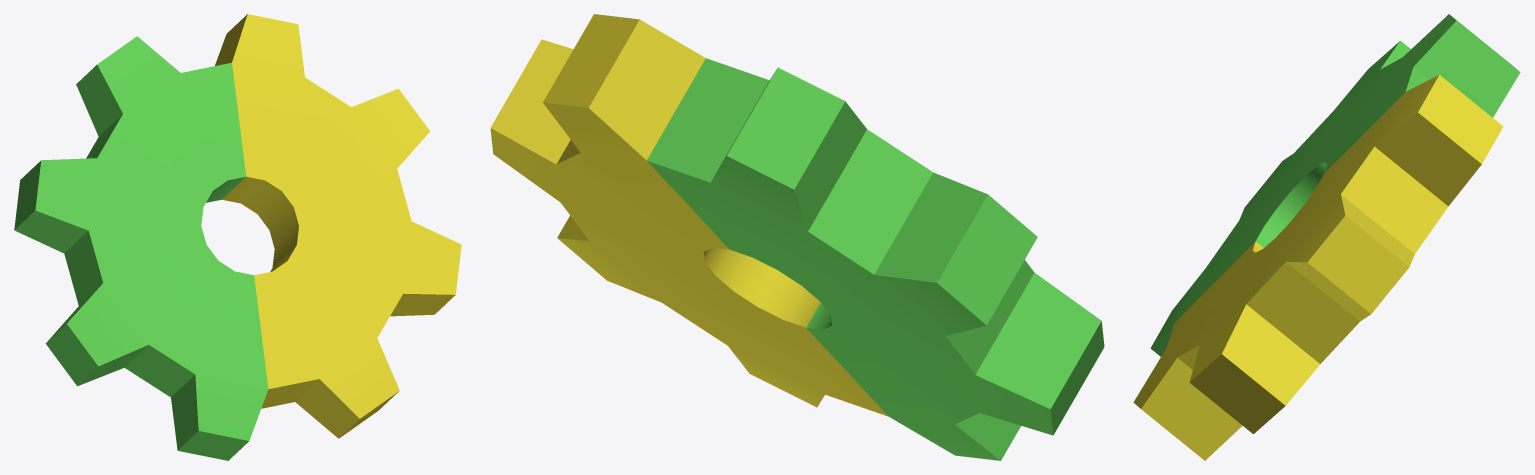
The picture shows the model from 3 angles, left to right: view 1: azimuth 30°, elevation 25°; view 2: azimuth 150°, elevation 25°; view 3: azimuth 270°, elevation 25°; orthographic projection. The views are drawn at different scales.
Visible parts, largest first — view 1: Joint_0_Object_0, Joint_0_Object_1; view 2: Joint_0_Object_0, Joint_0_Object_1; view 3: Joint_0_Object_1, Joint_0_Object_0.
Boxes of the visible parts, x1,y1,x2,y2 form: Joint_0_Object_0: [14, 36, 268, 460]; Joint_0_Object_1: [215, 14, 461, 438]; Joint_0_Object_0: [647, 58, 1104, 460]; Joint_0_Object_1: [490, 14, 888, 416]; Joint_0_Object_1: [1133, 75, 1503, 460]; Joint_0_Object_0: [1150, 14, 1520, 356].
Bounding box in the file's own units: 51.65 × 44.66 × 40.05.
